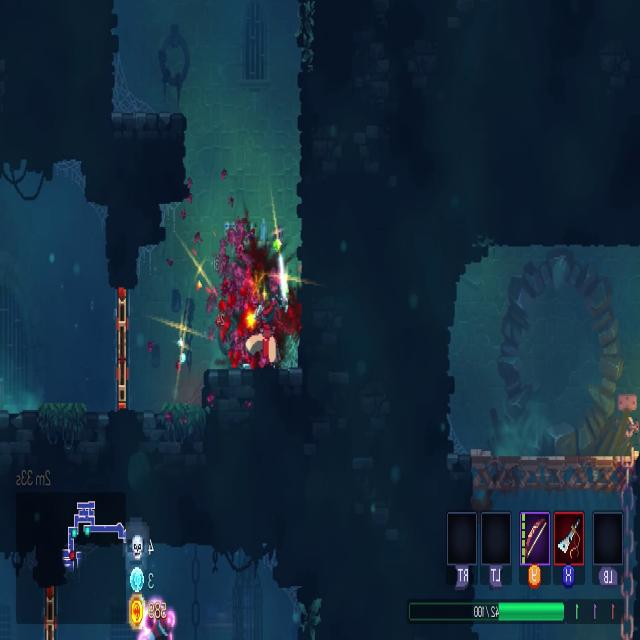agents: (250, 252, 294, 372)
door_regular: (114, 286, 128, 413), (43, 583, 58, 640)
enemy_purple_big: (134, 595, 181, 640)
wood_floor: (470, 447, 634, 499)
